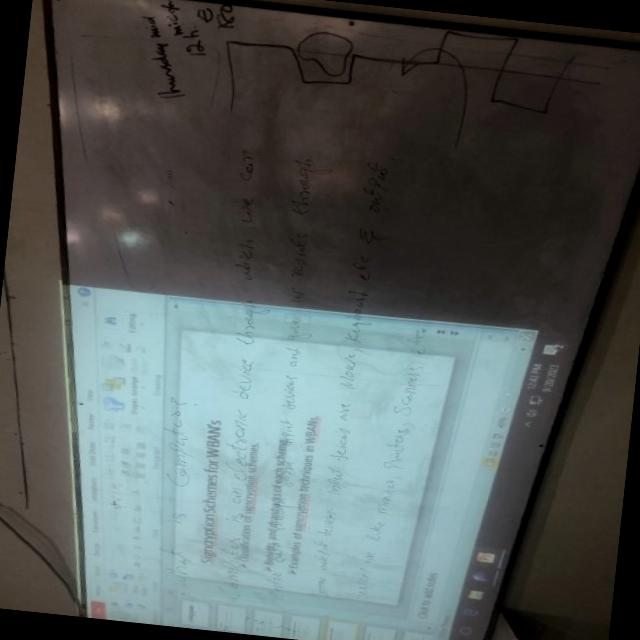Slide: (58, 273, 568, 640)
White-board: (47, 0, 640, 640)
